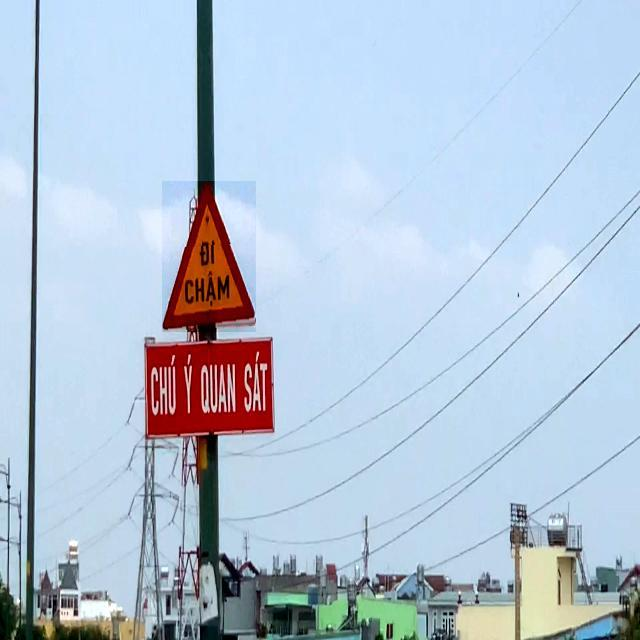W-245a: (163, 181, 257, 332)
